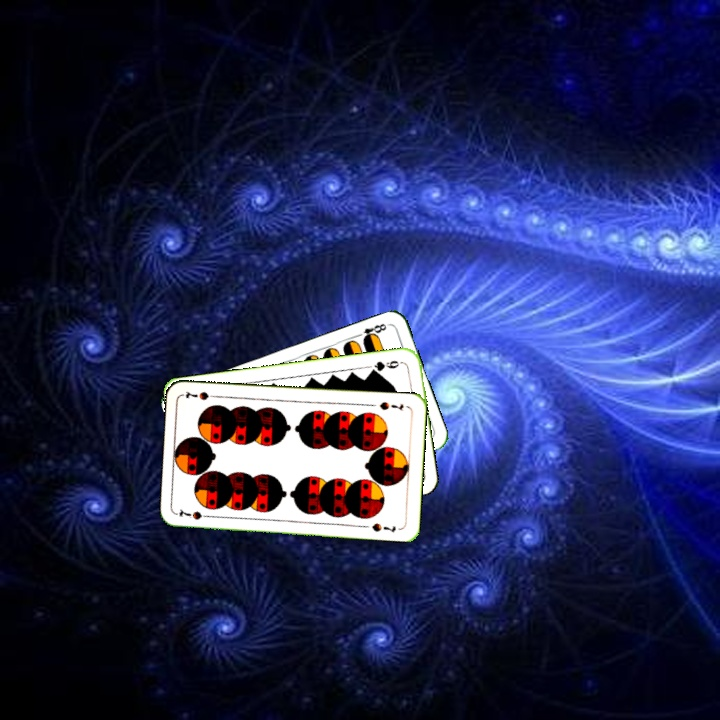E8: (352, 319, 392, 344)
G9: (366, 356, 406, 375)
S7: (175, 505, 215, 522), (375, 397, 406, 413)
